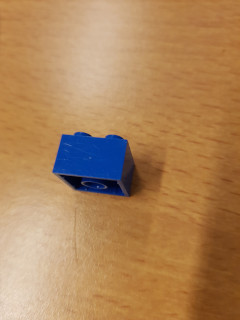2x2 blue: (50, 130, 137, 200)
